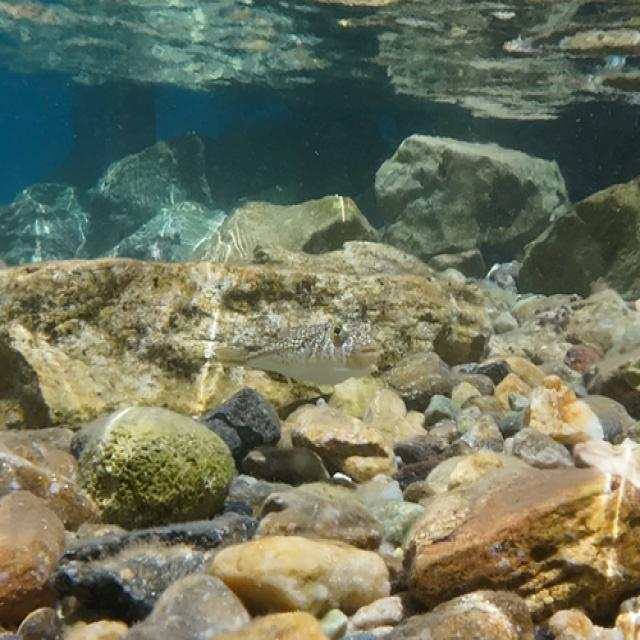Balik: (217, 323, 378, 384)
